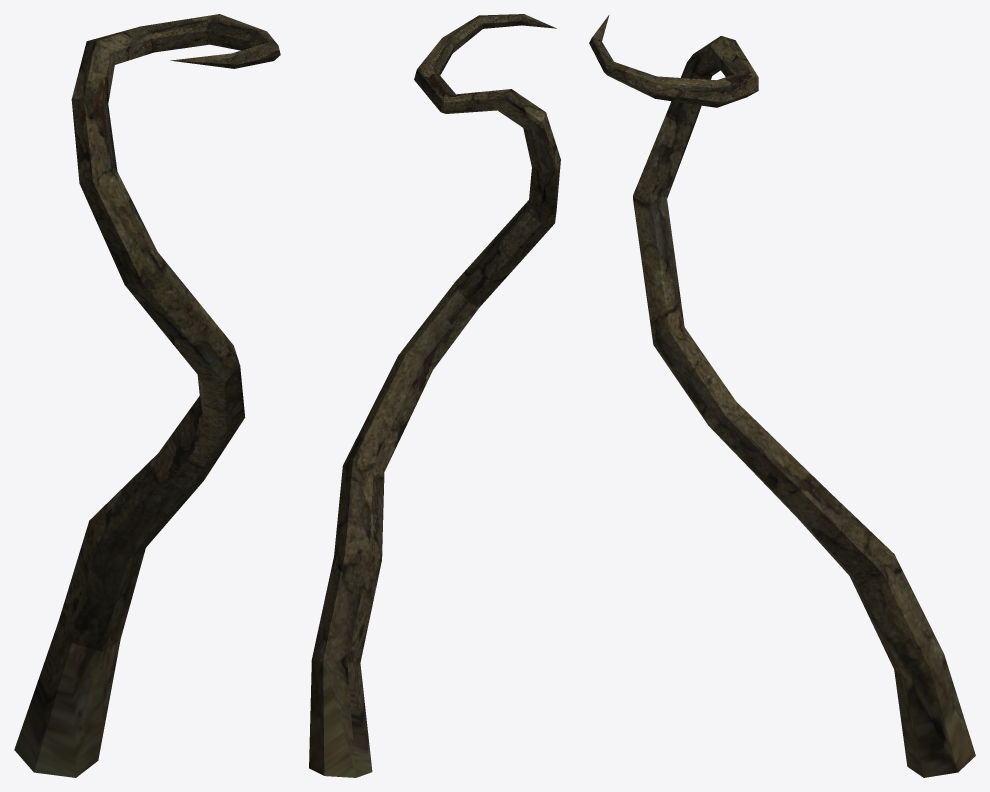
Rendered from Stage_3.fbx.
3 views of the same model, side by side, from view 1: azimuth 30°, elevation 25°; view 2: azimuth 150°, elevation 25°; view 3: azimuth 270°, elevation 25° (orthographic). The views are drawn at different scales.
Parts seen in each view (by area): view 1: Stage3; view 2: Stage3; view 3: Stage3.
Part boxes in pixels (x1=…): Stage3: x1=14, y1=14, x2=280, y2=777; Stage3: x1=309, y1=14, x2=560, y2=777; Stage3: x1=589, y1=14, x2=975, y2=777.
Bounding box in the file's own units: 67.85 × 278 × 136.
